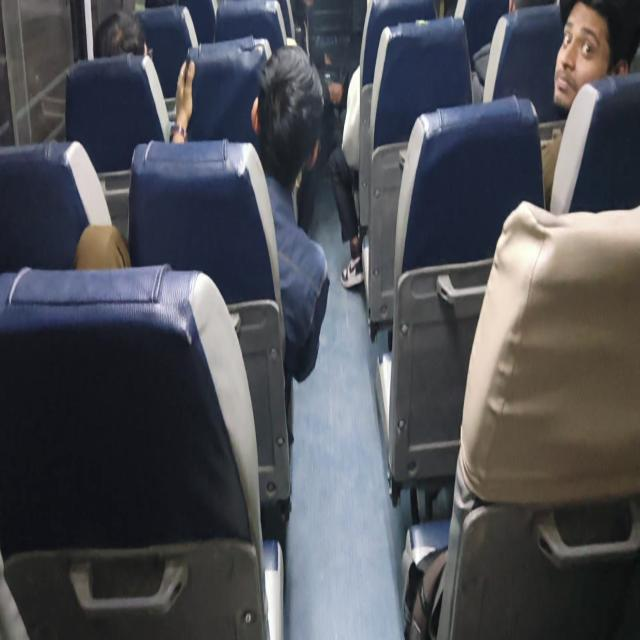person: (249, 48, 327, 168), (553, 6, 625, 120), (94, 12, 156, 78)
